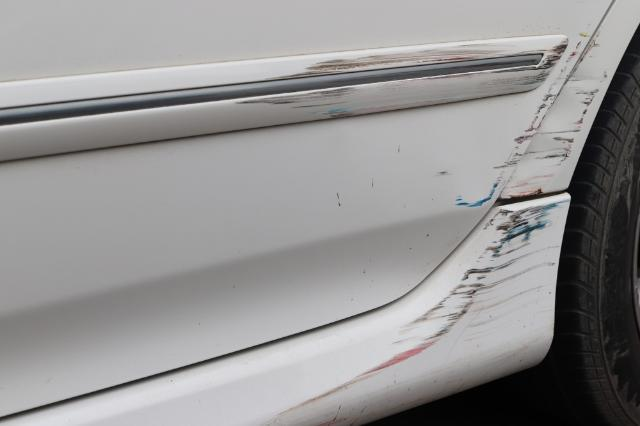scratch: (258, 198, 572, 423), (451, 26, 597, 210), (241, 41, 570, 118), (496, 26, 610, 201)
